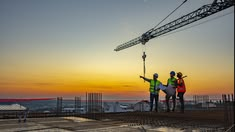crane: (96, 5, 219, 66)
hardhat: (169, 71, 176, 77), (152, 72, 159, 77)
person: (139, 66, 163, 111), (177, 71, 190, 114)
safety_vest: (149, 77, 162, 96), (176, 77, 188, 92), (167, 77, 177, 92)
